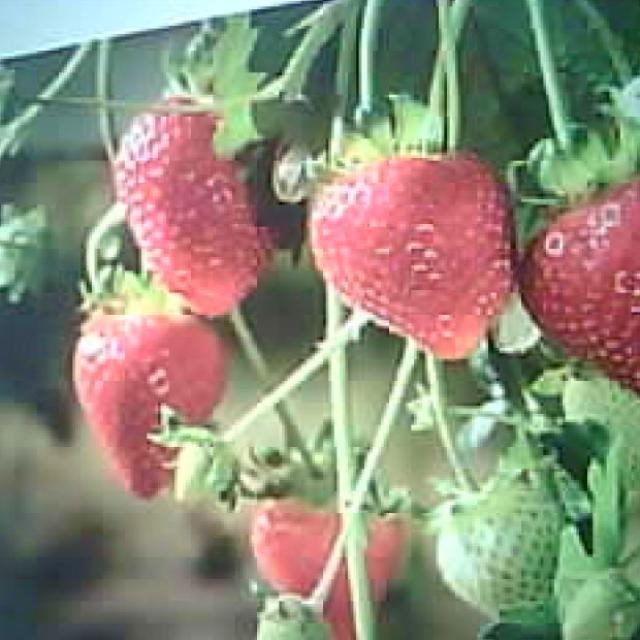Healthy Fruit: (287, 143, 522, 360), (111, 96, 271, 316), (69, 299, 236, 509), (516, 177, 638, 391), (422, 479, 571, 613)
